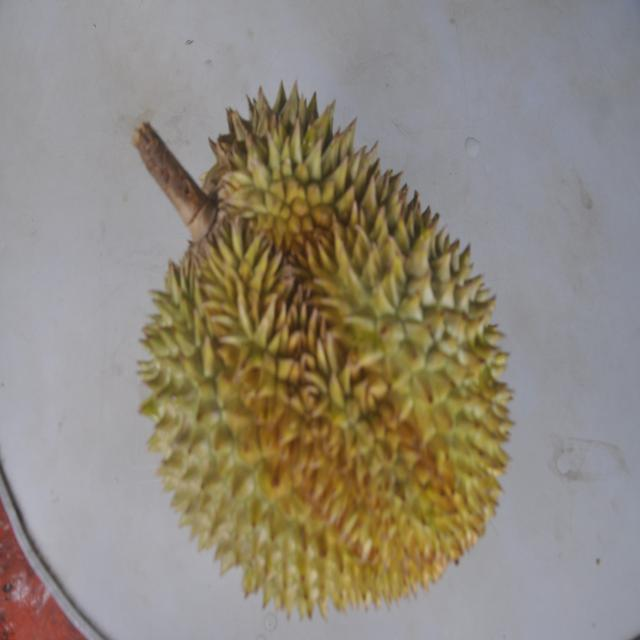mature: (133, 78, 510, 618)
